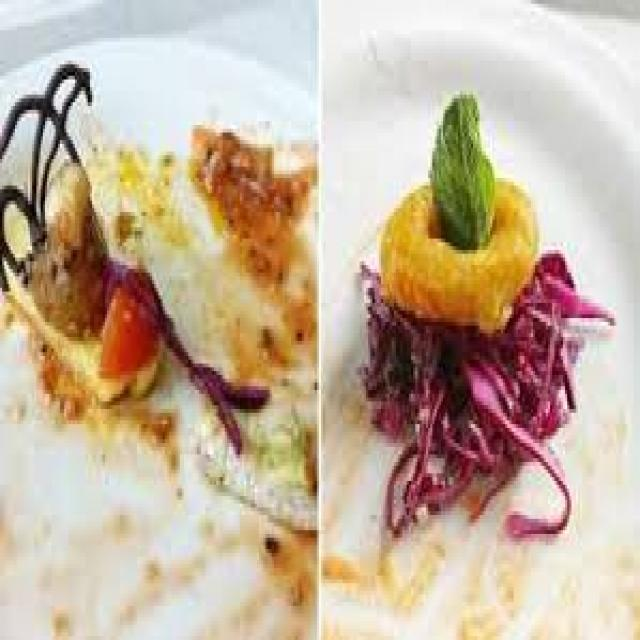organic waste: (355, 246, 612, 538), (0, 57, 161, 413), (127, 257, 266, 447), (377, 170, 535, 326), (188, 125, 315, 273), (192, 386, 314, 526), (430, 87, 492, 246), (90, 257, 158, 394), (458, 561, 520, 636), (45, 159, 90, 242), (531, 572, 584, 636), (261, 527, 304, 602), (396, 534, 439, 595), (374, 522, 404, 594), (319, 546, 362, 584), (616, 568, 638, 636)
